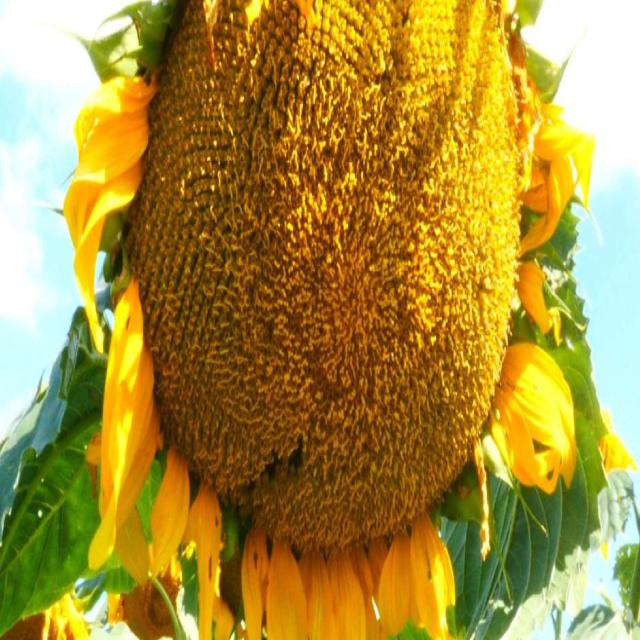sunflower: (61, 0, 598, 639)
